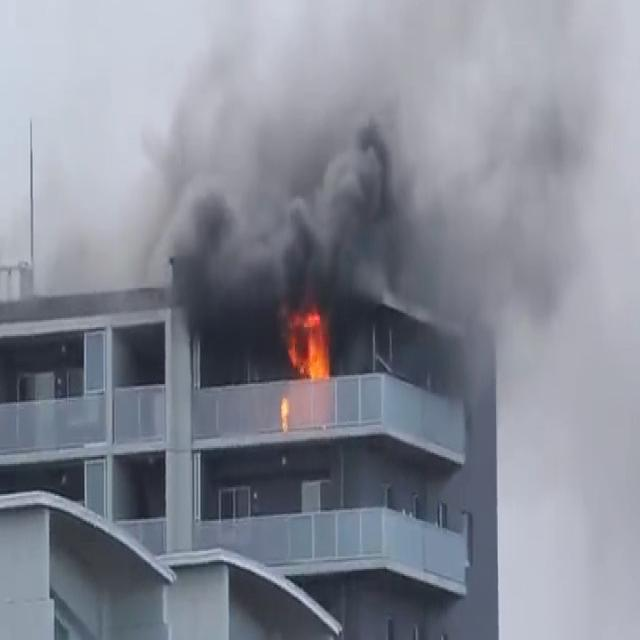Fire: (281, 301, 335, 383)
Smoke: (100, 0, 639, 379)
